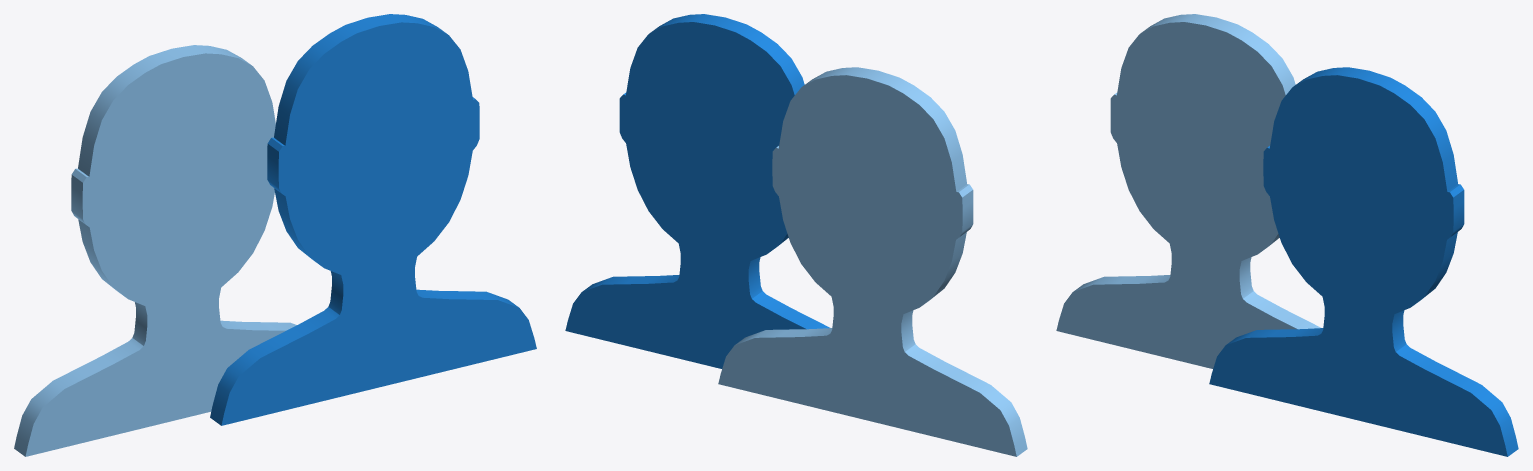
Rendered from busts_in_silhouette.glb.
3 views of the same model, side by side, from view 1: azimuth 30°, elevation 25°; view 2: azimuth 150°, elevation 25°; view 3: azimuth 330°, elevation 25° (orthographic). The views are drawn at different scales.
Parts seen in each view (by area): view 1: Circle.1777, Circle.1776; view 2: Circle.1776, Circle.1777; view 3: Circle.1777, Circle.1776.
Part boxes in pixels (x1,y1,x2,y2): Circle.1777: (210,14,536,425); Circle.1776: (14,45,296,456); Circle.1776: (718,67,1027,456); Circle.1777: (565,14,829,368); Circle.1777: (1209,67,1518,456); Circle.1776: (1056,14,1320,368).
Bounding box in the file's own units: 2.27 × 1.58 × 0.2277.
Materials: 1 (1 with a texture image).
